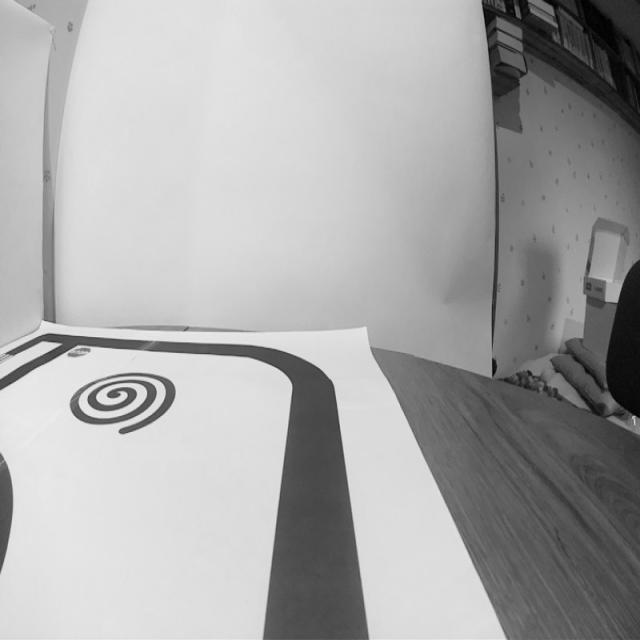lineStraight: (253, 462, 383, 640)
nest: (64, 368, 182, 442)
